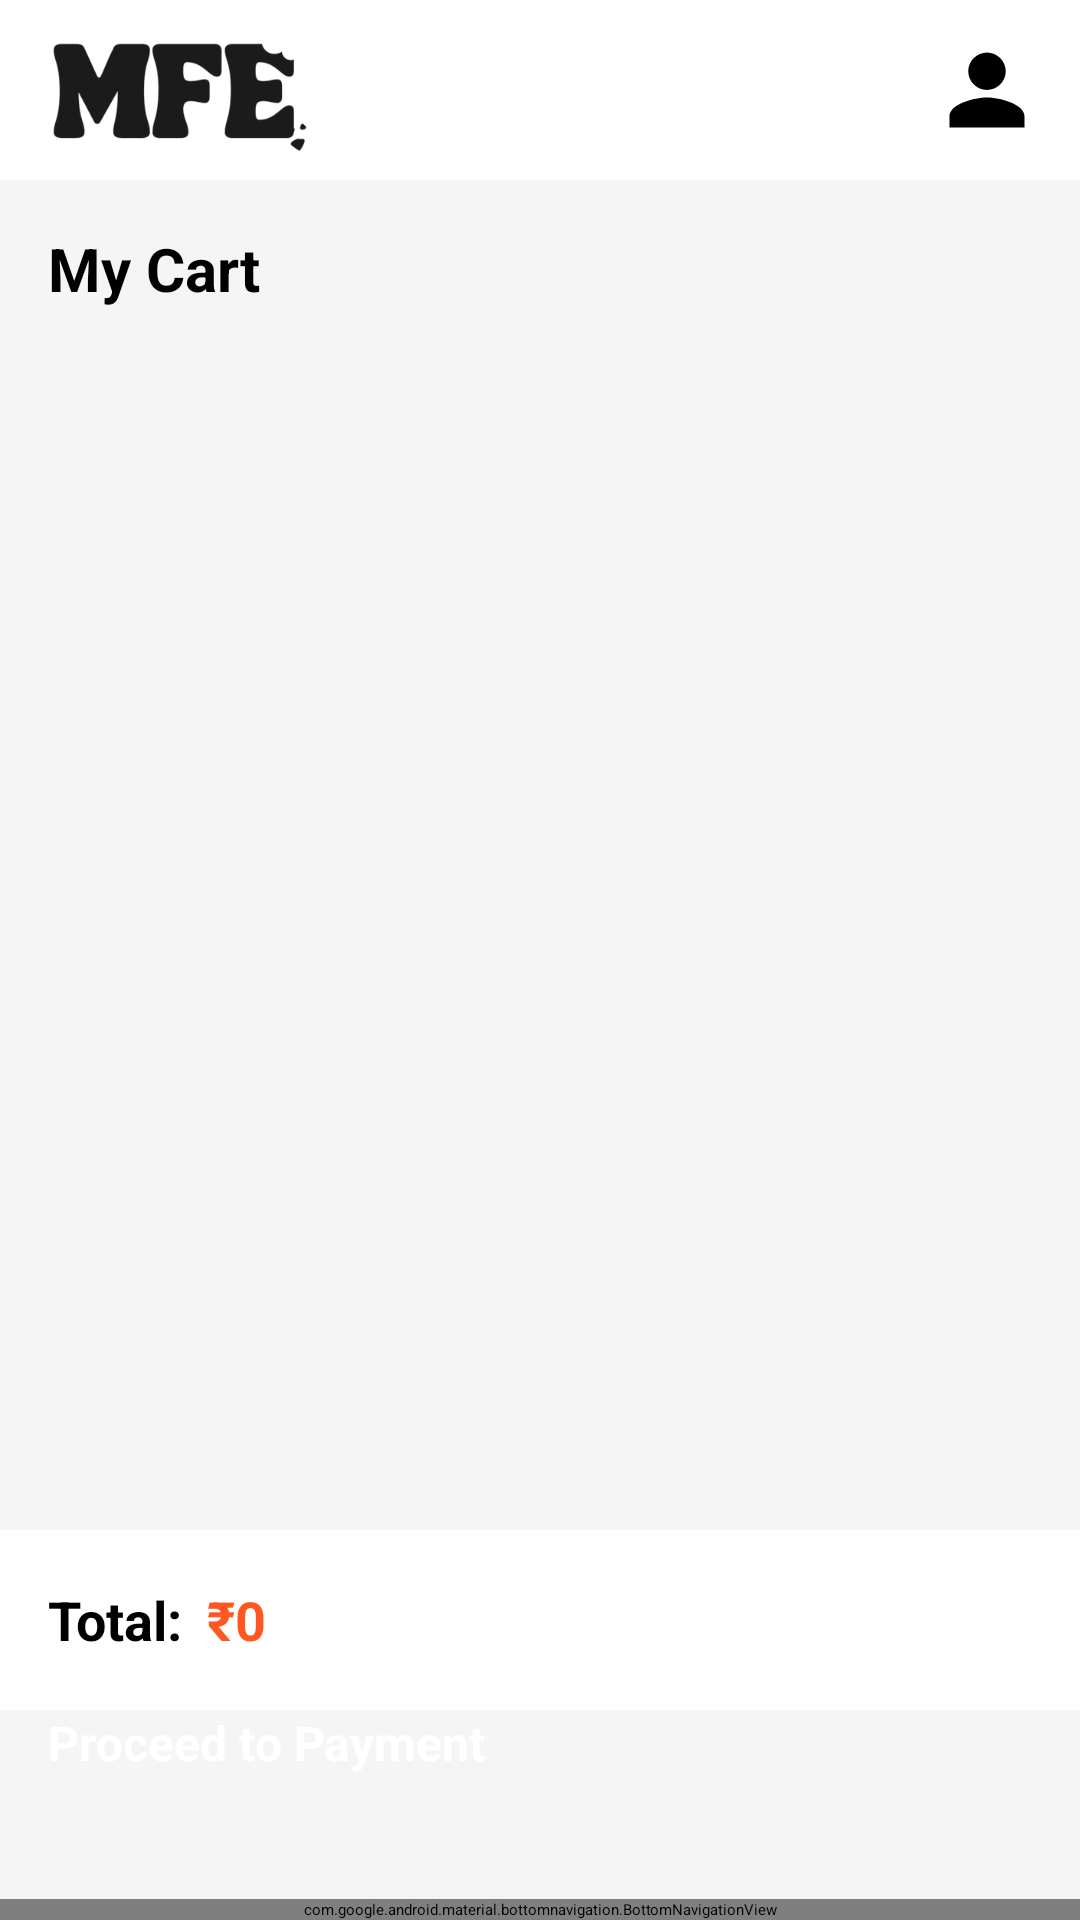

Named icons in this screenshot (1080x1920) and their bounding boxes, (x1,y1,x2,y2):
profile: (949,52,1025,128)
